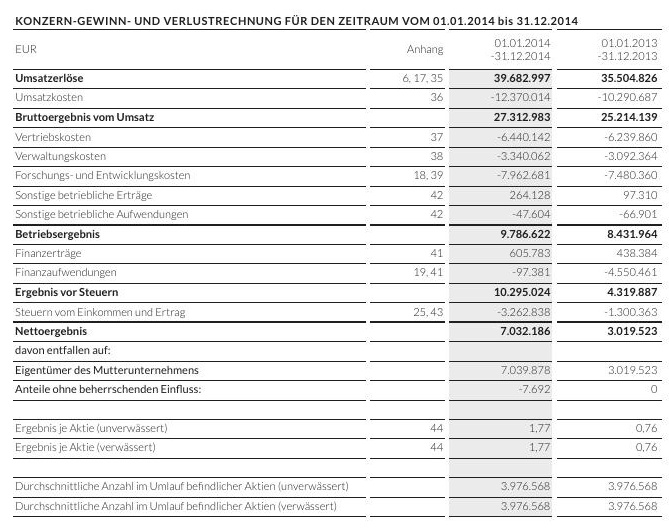table: (0, 0, 669, 528)
